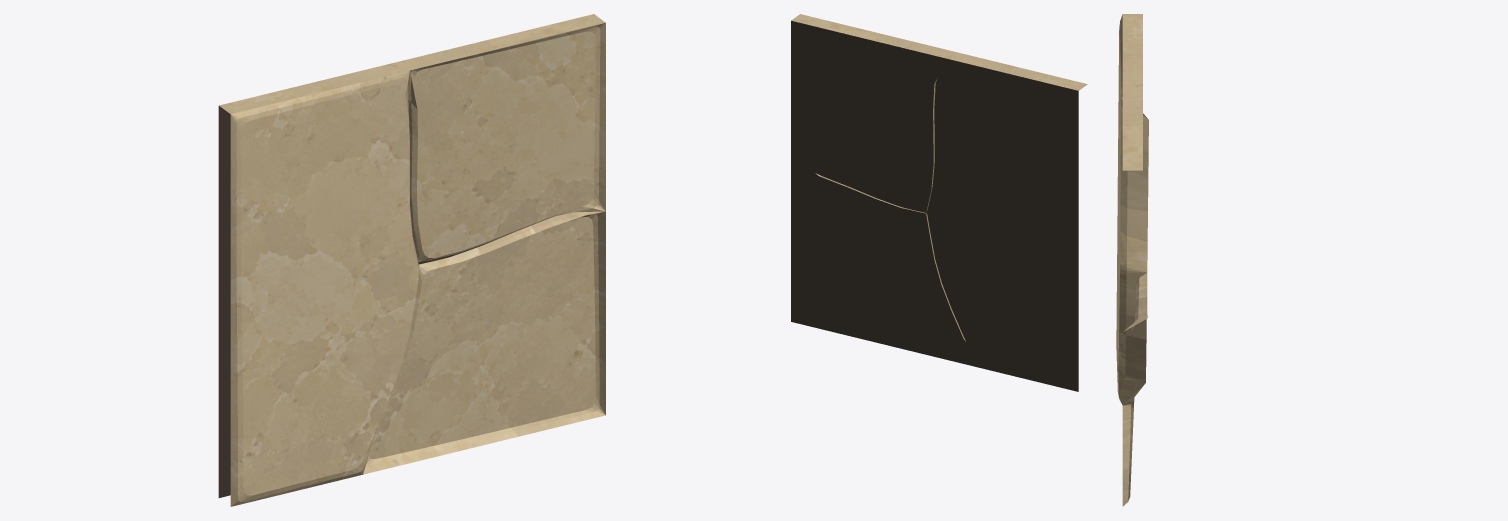
File: ground_square_edge_02.glb
3 renders of one model, left to right at view 1: azimuth 30°, elevation 25°; view 2: azimuth 150°, elevation 25°; view 3: azimuth 270°, elevation 25°, orthographic. The views are drawn at different scales.
Parts seen in each view (by area): view 1: GroundSquareEdge02_Body; view 2: GroundSquareEdge02_Body; view 3: GroundSquareEdge02_Body.
Boxes of the visible parts, <box> form: GroundSquareEdge02_Body: <box>218,14,605,506</box>; GroundSquareEdge02_Body: <box>791,14,1087,391</box>; GroundSquareEdge02_Body: <box>1116,14,1148,506</box>.
Bounding box in the file's own units: 1 × 1 × 1.02.
5 materials, 4 textured.
